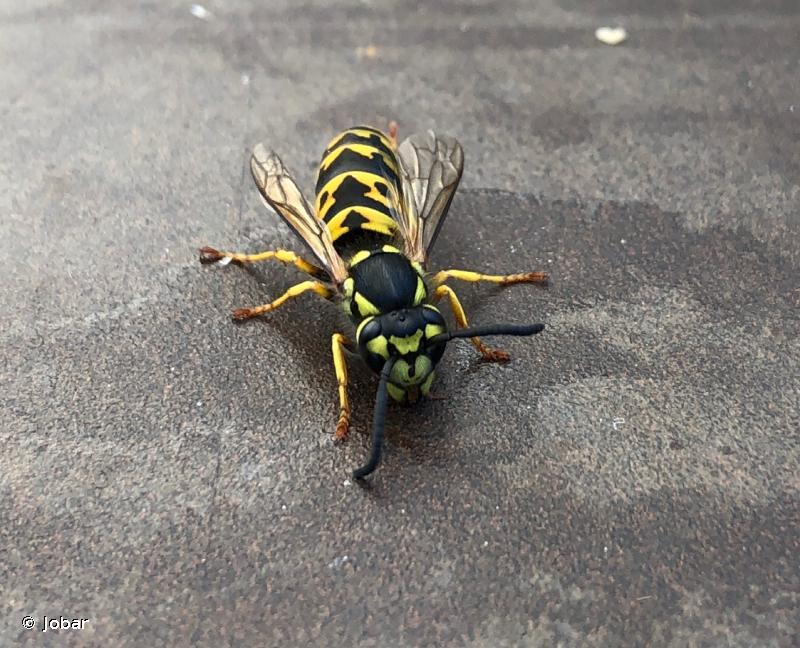chax: (180, 102, 580, 491)
